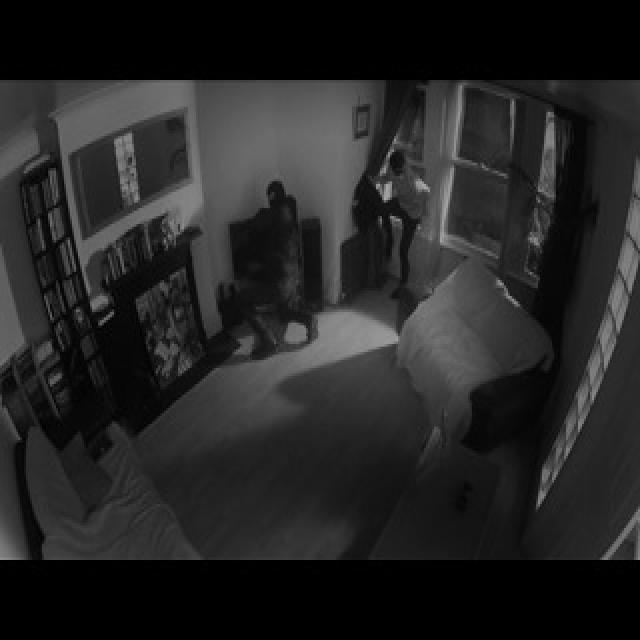burglary: (371, 145, 430, 303)
thief: (230, 164, 322, 376)
